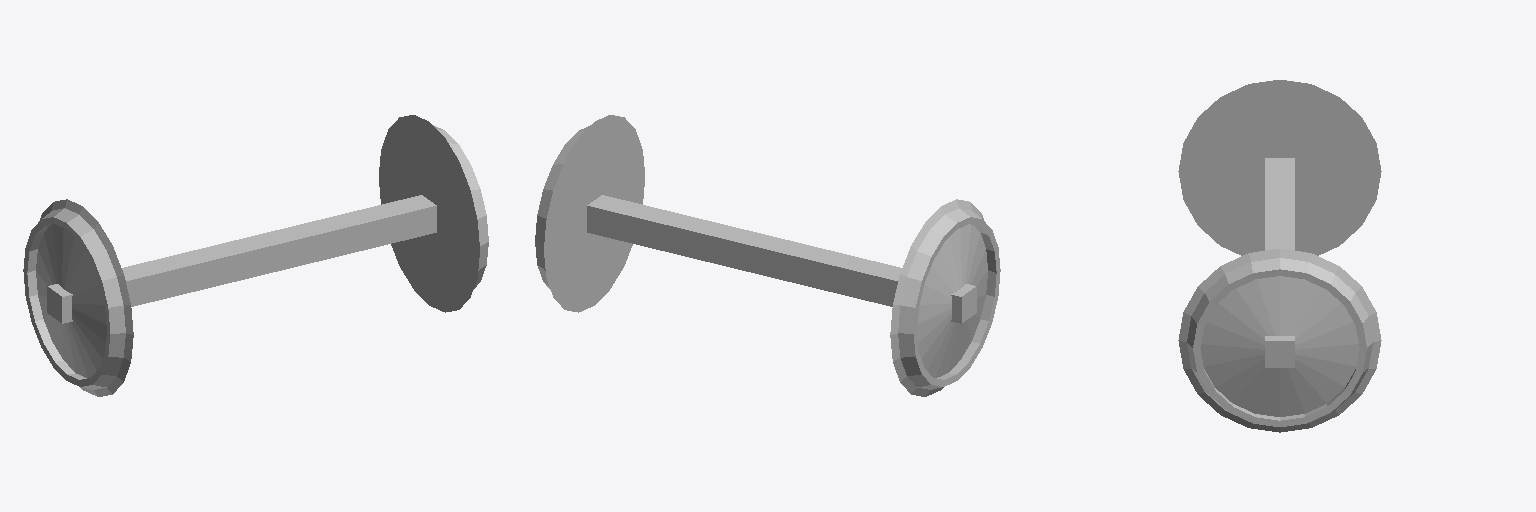
File: Wheels.obj
3 views of the same model, side by side, from view 1: azimuth 30°, elevation 25°; view 2: azimuth 150°, elevation 25°; view 3: azimuth 270°, elevation 25° (orthographic).
Visible parts, largest first — view 1: pasted__polySurface35 group9; view 2: pasted__polySurface35 group9; view 3: pasted__polySurface35 group9.
Boxes of the visible parts, box(x1,y1,x2,y2) form: pasted__polySurface35 group9: box(23, 115, 488, 396); pasted__polySurface35 group9: box(535, 115, 1000, 396); pasted__polySurface35 group9: box(1178, 80, 1381, 432).
Bounding box in the file's own units: 2.32 × 1.02 × 1.02.